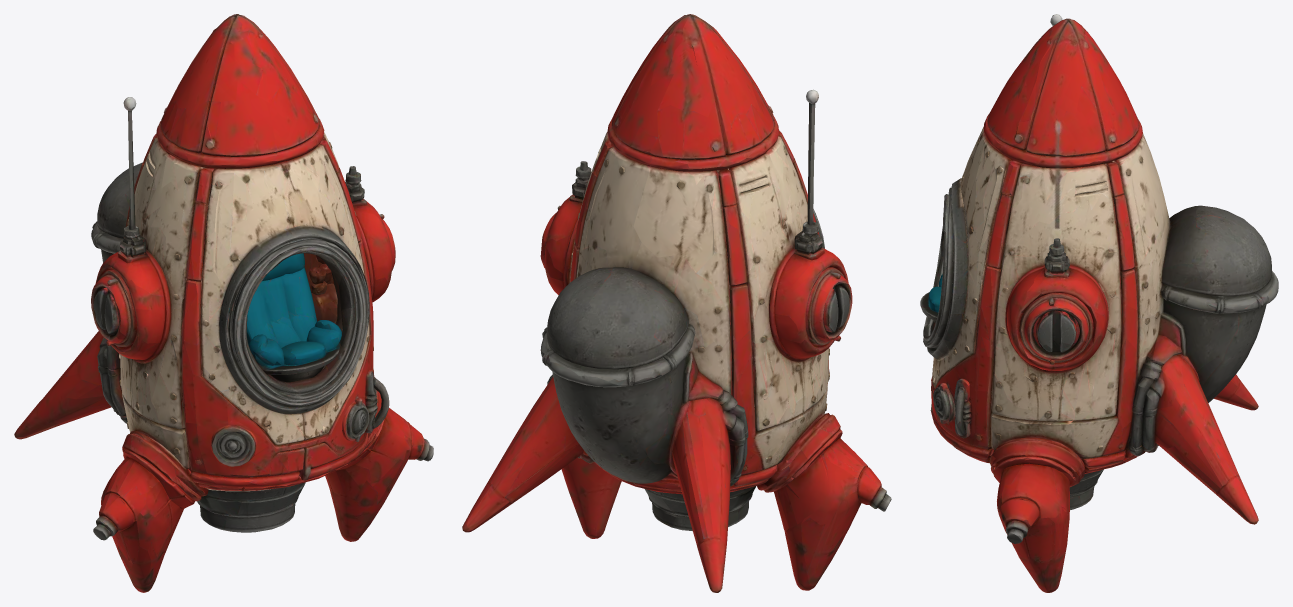
The model's file is ride_rocket.glb.
3 views of the same model, side by side, from view 1: azimuth 30°, elevation 25°; view 2: azimuth 150°, elevation 25°; view 3: azimuth 270°, elevation 25° (orthographic). The views are drawn at different scales.
Bounding box in the file's own units: 1.24 × 1.9 × 1.18.
Materials: 1 (1 with a texture image).
